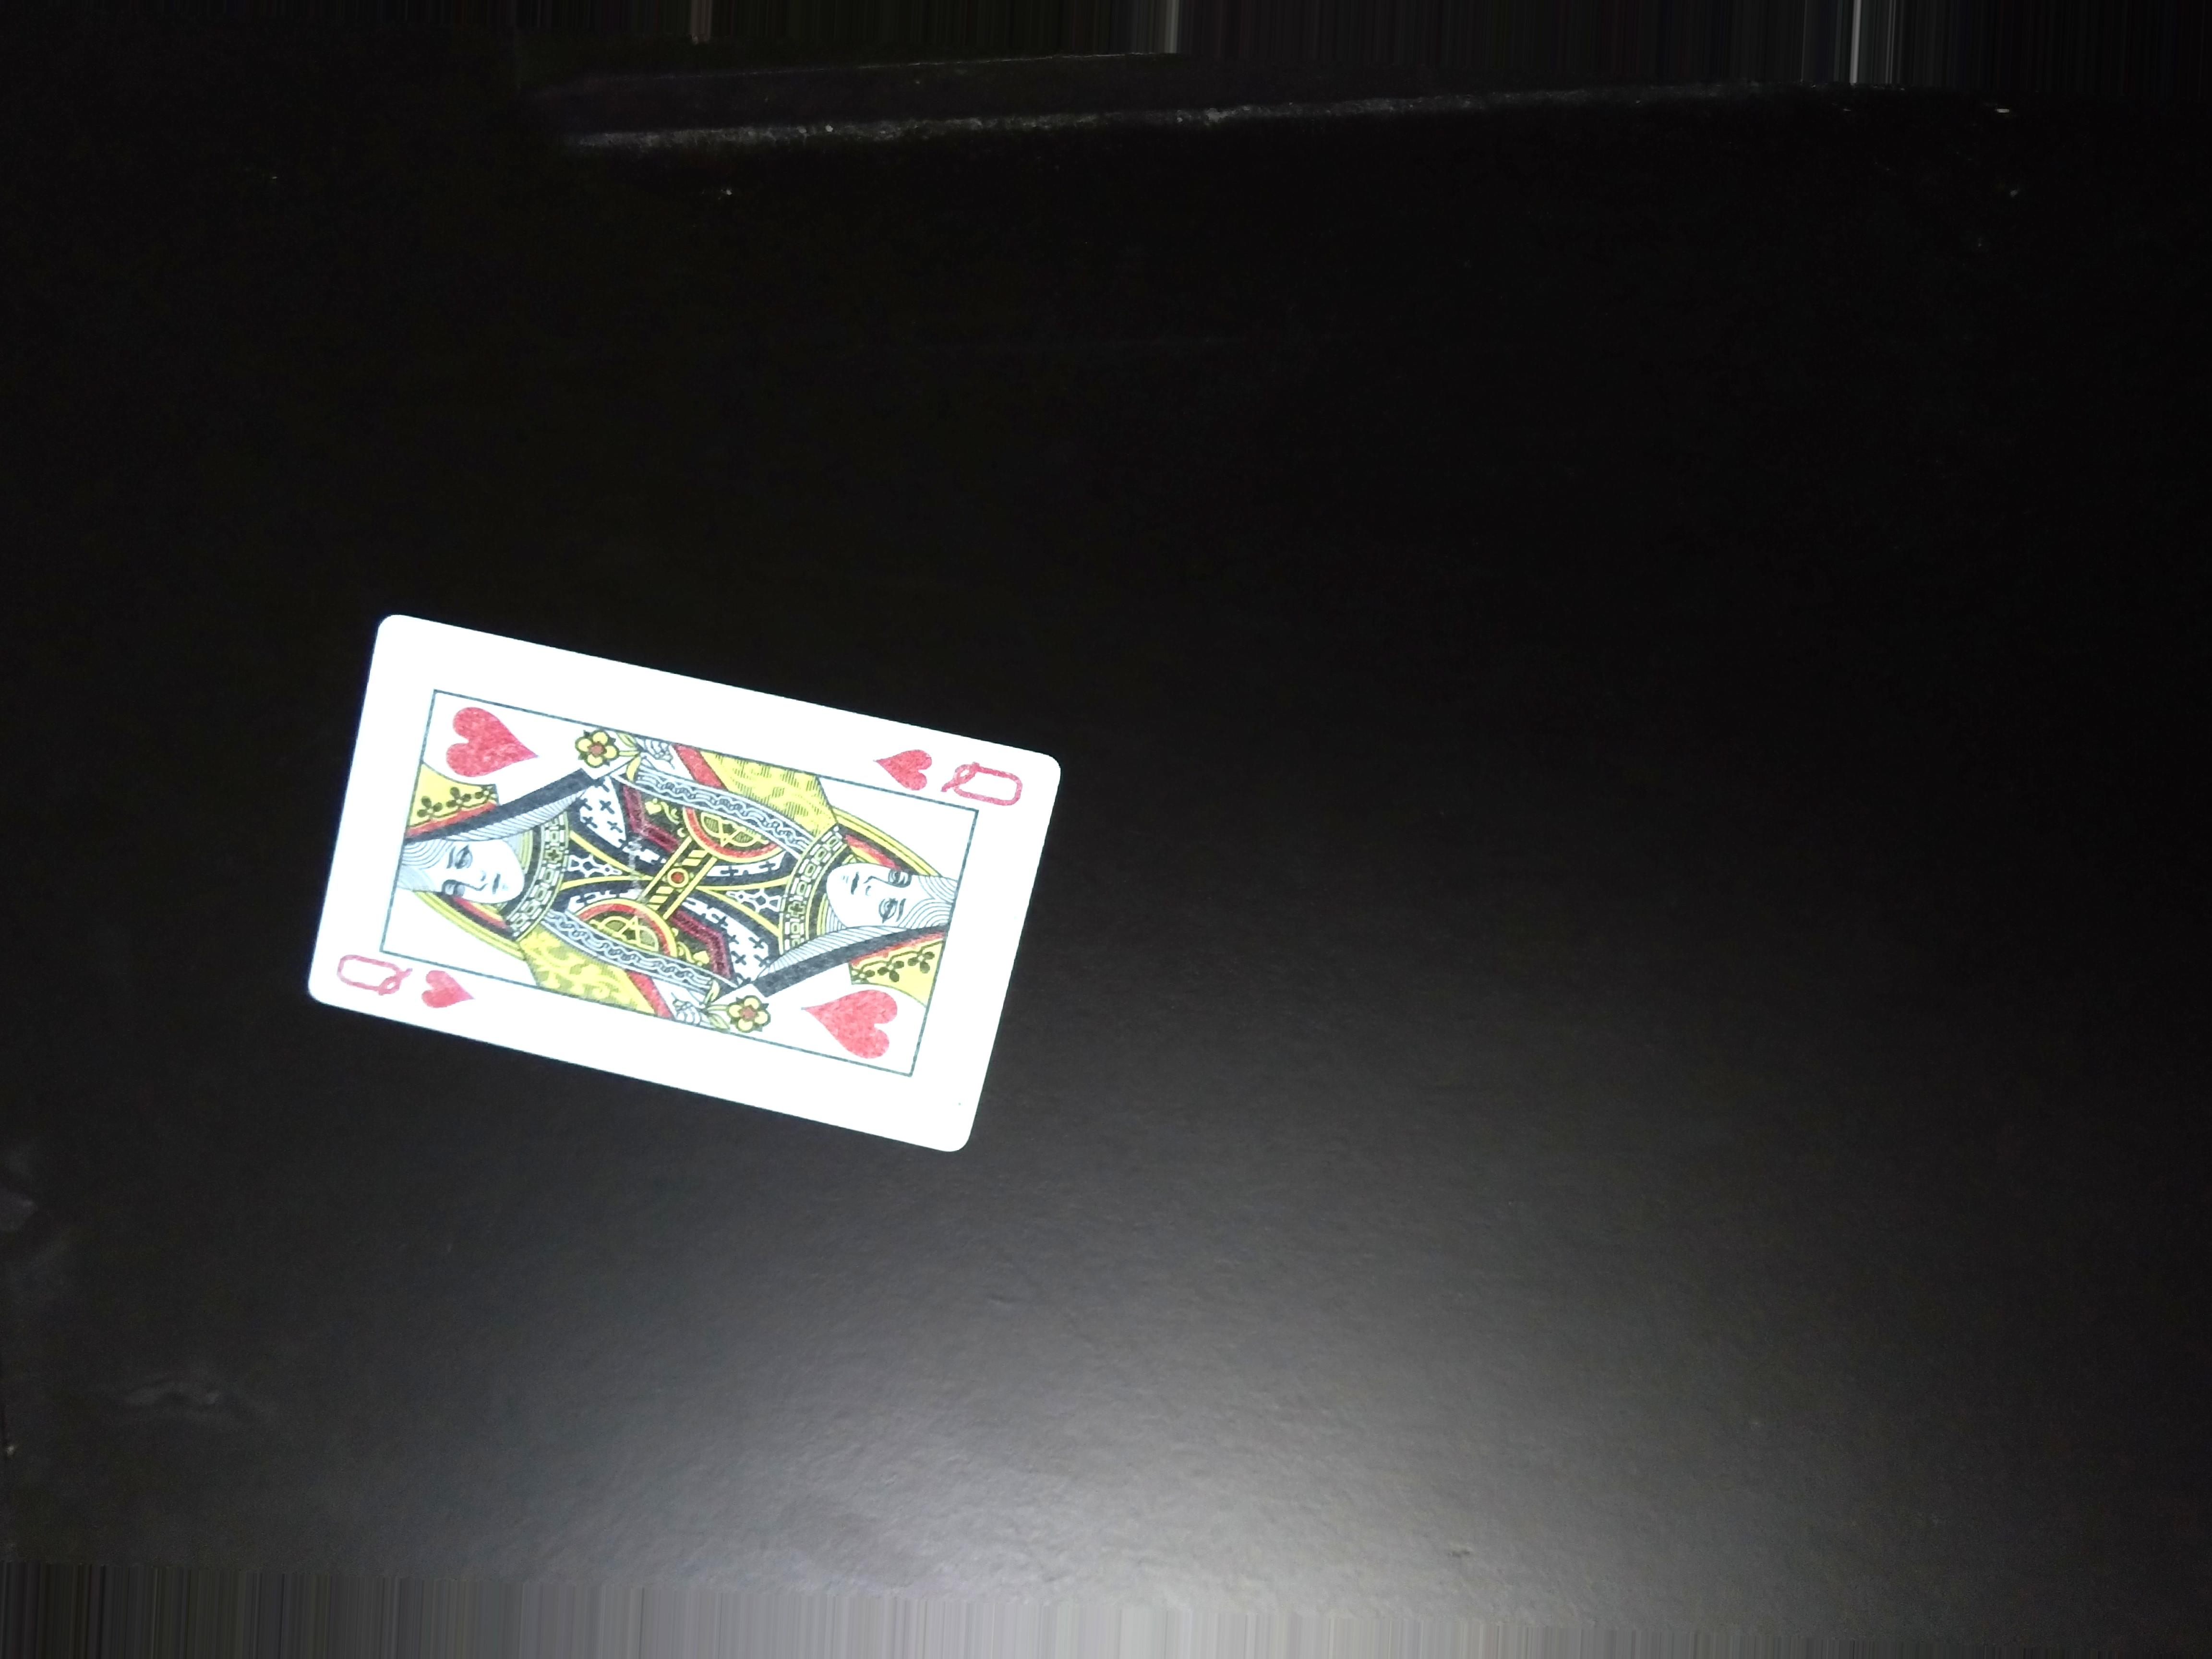QH: (293, 932, 470, 1011)
